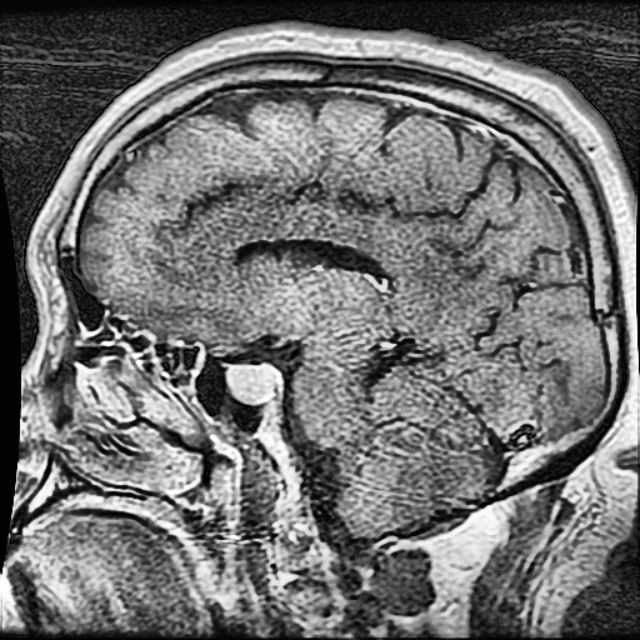Pituitary: (223, 363, 280, 404)
